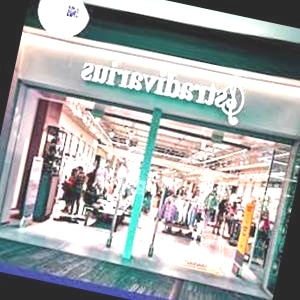stradivarius: (220, 21, 292, 63)
